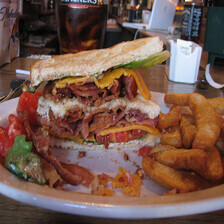laptop: (114, 1, 185, 35)
